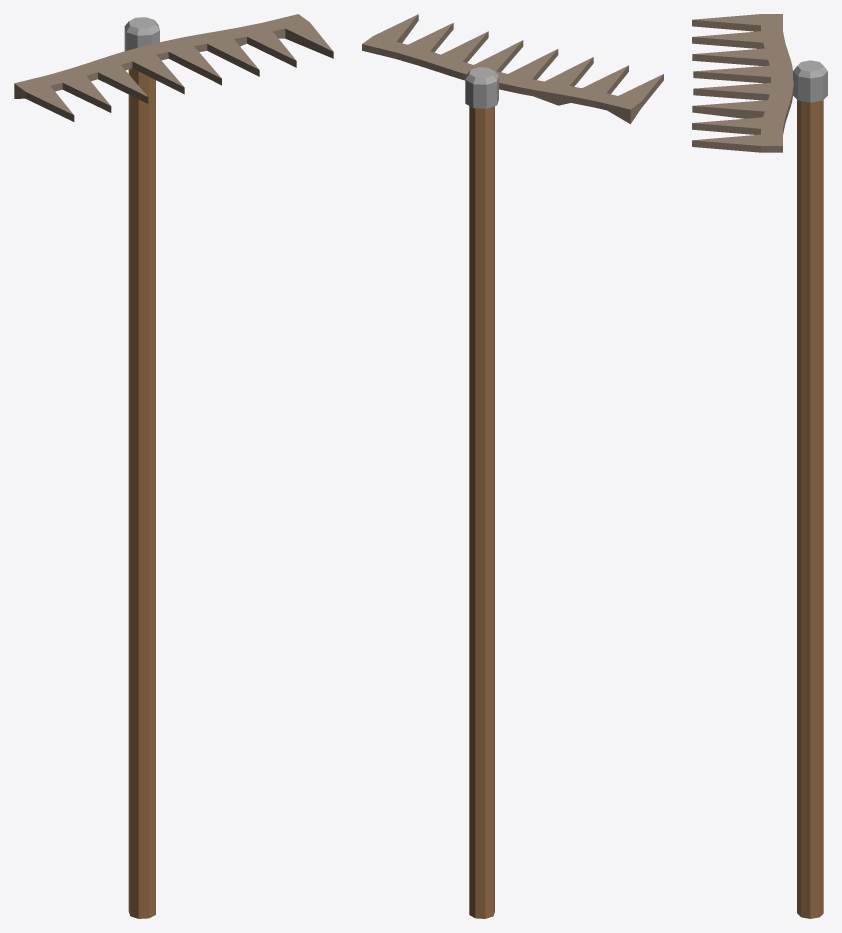
The model's file is Rack.fbx.
3 views of the same model, side by side, from view 1: azimuth 30°, elevation 25°; view 2: azimuth 150°, elevation 25°; view 3: azimuth 270°, elevation 25° (orthographic). The views are drawn at different scales.
Parts seen in each view (by area): view 1: Rack; view 2: Rack; view 3: Rack.
Part boxes in pixels (<box>): Rack: <box>14,14,333,918</box>; Rack: <box>362,14,663,918</box>; Rack: <box>692,14,827,918</box>.
Size of the model in its own units: 39.03 by 117 by 16.99.
